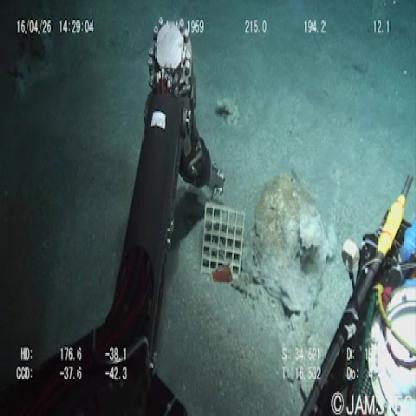Rov: (88, 11, 226, 379), (297, 166, 415, 413), (195, 188, 246, 290)
